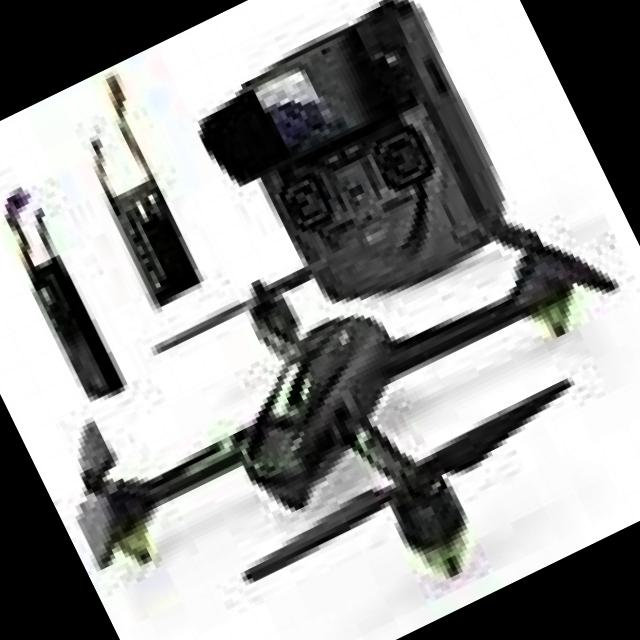drone: (17, 133, 640, 640)
